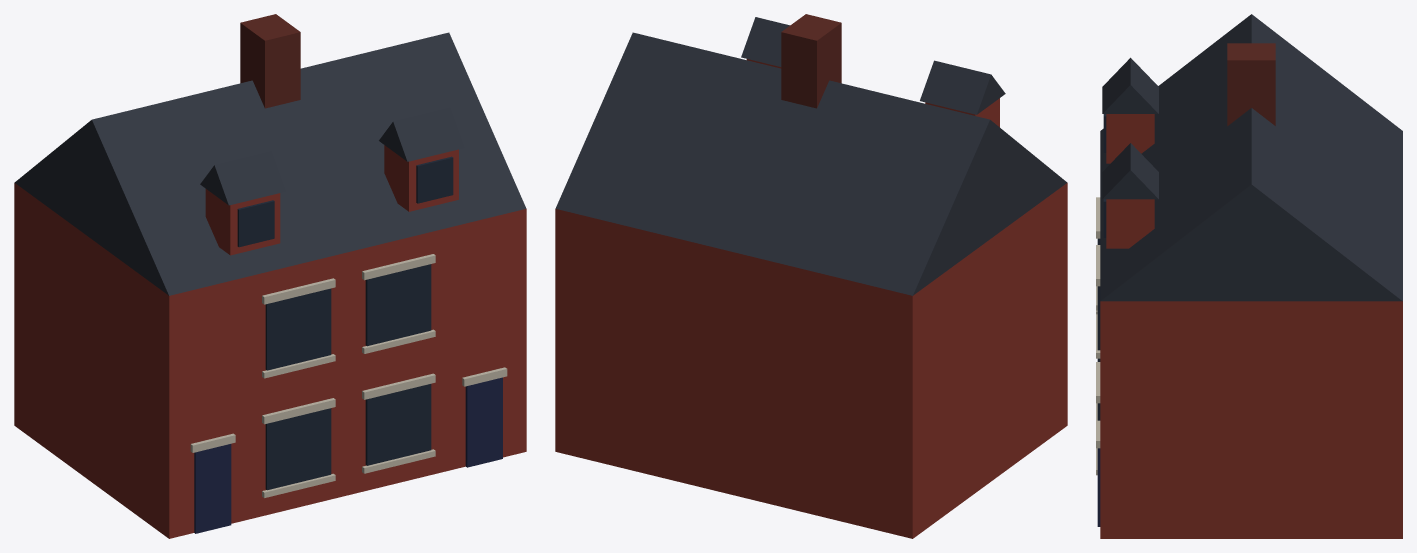
Rendered from building_westyork_s3_redbrick_terrace.glb.
3 views of the same model, side by side, from view 1: azimuth 30°, elevation 25°; view 2: azimuth 150°, elevation 25°; view 3: azimuth 270°, elevation 25° (orthographic). The views are drawn at different scales.
Visible parts, largest first — view 1: building_westyork_s3_redbrick_terrace; view 2: building_westyork_s3_redbrick_terrace; view 3: building_westyork_s3_redbrick_terrace.
Boxes of the visible parts, box(x1,y1,x2,y2) form: building_westyork_s3_redbrick_terrace: box(14, 14, 526, 538); building_westyork_s3_redbrick_terrace: box(555, 14, 1067, 538); building_westyork_s3_redbrick_terrace: box(1096, 14, 1402, 538).
Bounding box in the file's own units: 10 × 11 × 7.61.
1 material, 1 textured.
